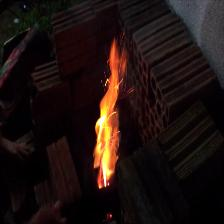fire: (98, 47, 123, 186)
